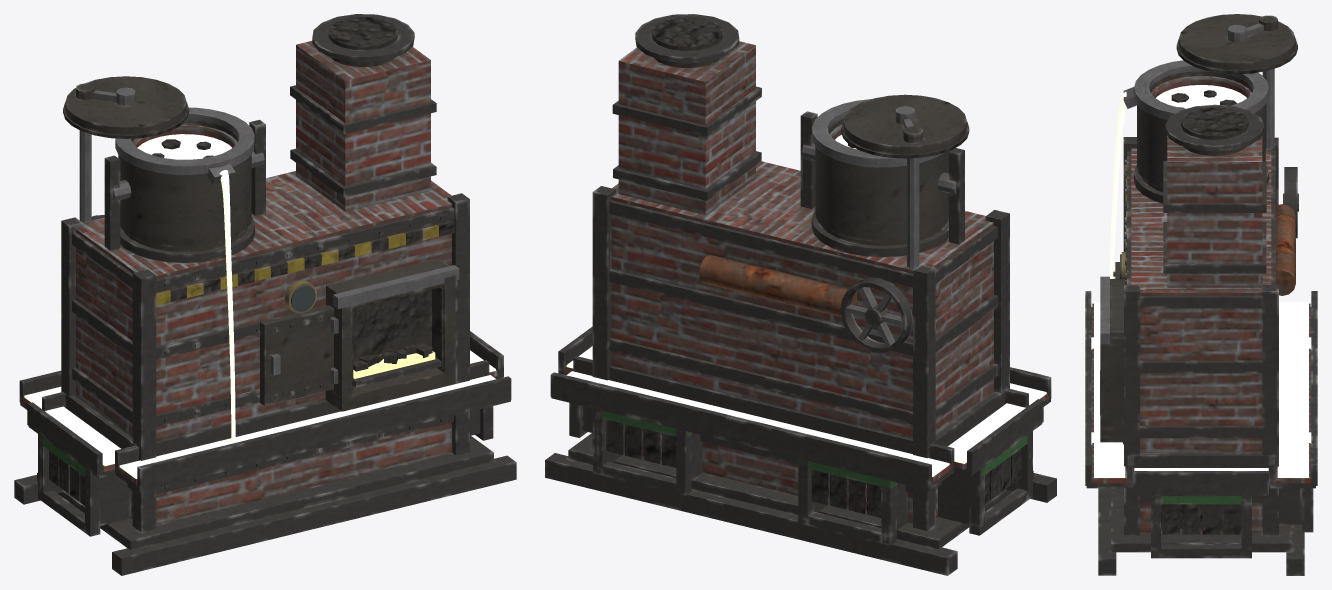
The model's file is feM_Foundry_HD.fbx.
3 views of the same model, side by side, from view 1: azimuth 30°, elevation 25°; view 2: azimuth 150°, elevation 25°; view 3: azimuth 270°, elevation 25° (orthographic). The views are drawn at different scales.
Parts seen in each view (by area): view 1: feM_Foundry_Base, FePour_Foundry; view 2: feM_Foundry_Base, FeSpin_x3_Blower; view 3: feM_Foundry_Base, FePour_Foundry, FeSpin_x3_Blower.
Boxes of the visible parts, x1,y1,x2,y2 form: feM_Foundry_Base: (14,14,516,575); FePour_Foundry: (219,170,235,443); feM_Foundry_Base: (545,14,1056,575); FeSpin_x3_Blower: (840,277,912,352); feM_Foundry_Base: (1085,14,1317,575); FePour_Foundry: (1109,91,1126,278); FeSpin_x3_Blower: (1283,167,1298,238).
Bounding box in the file's own units: 2.02 × 2.02 × 1.04.
Materials: 3 (1 with a texture image).
